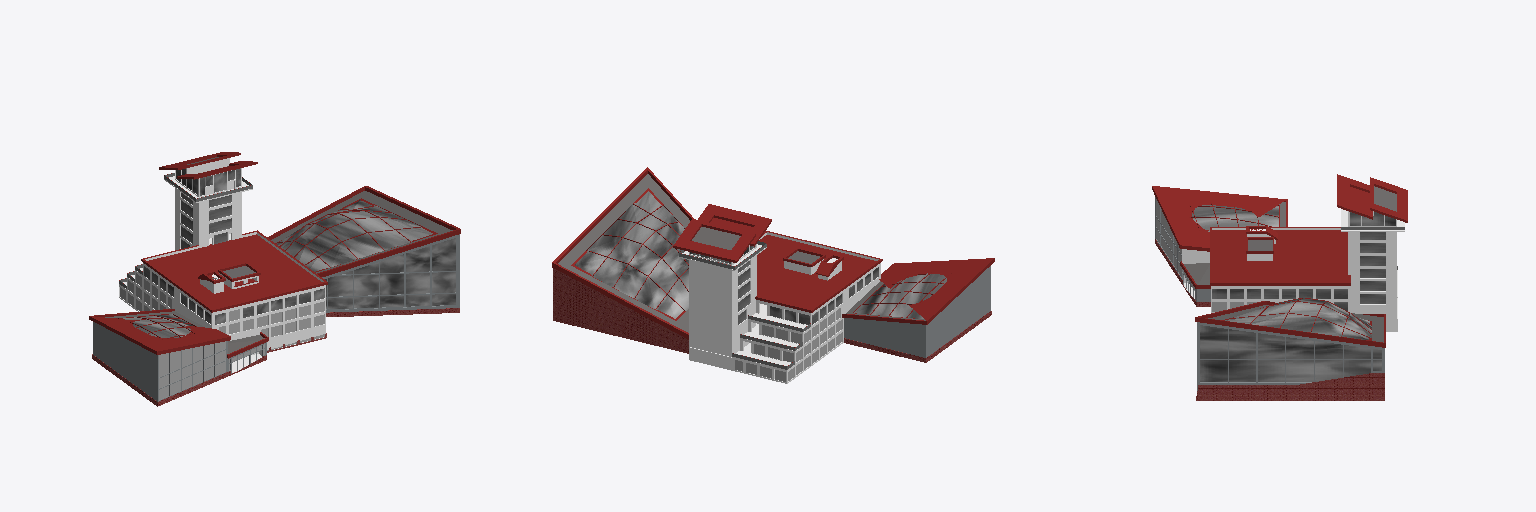
The picture shows the model from 3 angles: view 1: azimuth 30°, elevation 25°; view 2: azimuth 150°, elevation 25°; view 3: azimuth 270°, elevation 25°; orthographic projection.
Visible parts, largest first — view 1: Mesh12 Group6 Skill_Builder__X_ray__Back_Edges__and_Transparency, Mesh27 Group11 Skill_Builder__X_ray__Back_Edges__and_Transparenc, Mesh13 Group7 Skill_Builder__X_ray__Back_Edges__and_Transparency, Mesh5 Group2 Skill_Builder__X_ray__Back_Edges__and_Transparency1, Mesh1 Group1 Skill_Builder__X_ray__Back_Edges__and_Transparency1, Mesh16 Group9 Skill_Builder__X_ray__Back_Edges__and_Transparency, Mesh30 One_FLoor_1_1 Skill_Builder__X_ray__Back_Edges__and_Trans, Mesh29 One_FLoor_2_1 Skill_Builder__X_ray__Back_Edges__and_Trans, Mesh14 Group8 Skill_Builder__X_ray__Back_Edges__and_Transparency, Mesh31 One_FLoor1 Skill_Builder__X_ray__Back_Edges__and_Transpar, Mesh630 One_FLoor_3_1 Skill_Builder__X_ray__Back_Edges__and_Tran, Mesh15 Group10 Group9 Skill_Builder__X_ray__Back_Edges__and_Tran (+3 smaller); view 2: Mesh13 Group7 Skill_Builder__X_ray__Back_Edges__and_Transparency, Mesh12 Group6 Skill_Builder__X_ray__Back_Edges__and_Transparency, Mesh1 Group1 Skill_Builder__X_ray__Back_Edges__and_Transparency1, Mesh5 Group2 Skill_Builder__X_ray__Back_Edges__and_Transparency1, Mesh14 Group8 Skill_Builder__X_ray__Back_Edges__and_Transparency, Mesh16 Group9 Skill_Builder__X_ray__Back_Edges__and_Transparency, Mesh30 One_FLoor_1_1 Skill_Builder__X_ray__Back_Edges__and_Trans, Mesh31 One_FLoor1 Skill_Builder__X_ray__Back_Edges__and_Transpar, Mesh29 One_FLoor_2_1 Skill_Builder__X_ray__Back_Edges__and_Trans, Mesh630 One_FLoor_3_1 Skill_Builder__X_ray__Back_Edges__and_Tran, Mesh15 Group10 Group9 Skill_Builder__X_ray__Back_Edges__and_Tran, Mesh2191 Skill_Builder__X_ray__Back_Edges__and_Transparency1 Mod (+2 smaller); view 3: Mesh12 Group6 Skill_Builder__X_ray__Back_Edges__and_Transparency, Mesh28 Group12 Skill_Builder__X_ray__Back_Edges__and_Transparenc, Mesh13 Group7 Skill_Builder__X_ray__Back_Edges__and_Transparency, Mesh1 Group1 Skill_Builder__X_ray__Back_Edges__and_Transparency1, Mesh14 Group8 Skill_Builder__X_ray__Back_Edges__and_Transparency, Mesh16 Group9 Skill_Builder__X_ray__Back_Edges__and_Transparency, Mesh30 One_FLoor_1_1 Skill_Builder__X_ray__Back_Edges__and_Trans, Mesh5 Group2 Skill_Builder__X_ray__Back_Edges__and_Transparency1, Mesh2190 Skill_Builder__X_ray__Back_Edges__and_Transparency1 Mod.
Boxes of the visible parts, box(x1,y1,x2,y2) form: Mesh12 Group6 Skill_Builder__X_ray__Back_Edges__and_Transparency: box(141, 230, 327, 313); Mesh27 Group11 Skill_Builder__X_ray__Back_Edges__and_Transparenc: box(325, 237, 456, 309); Mesh13 Group7 Skill_Builder__X_ray__Back_Edges__and_Transparency: box(159, 152, 257, 249); Mesh5 Group2 Skill_Builder__X_ray__Back_Edges__and_Transparency1: box(92, 300, 227, 406); Mesh1 Group1 Skill_Builder__X_ray__Back_Edges__and_Transparency1: box(89, 309, 230, 354); Mesh16 Group9 Skill_Builder__X_ray__Back_Edges__and_Transparency: box(267, 186, 460, 276); Mesh30 One_FLoor_1_1 Skill_Builder__X_ray__Back_Edges__and_Trans: box(135, 264, 325, 326); Mesh29 One_FLoor_2_1 Skill_Builder__X_ray__Back_Edges__and_Trans: box(127, 271, 325, 335); Mesh14 Group8 Skill_Builder__X_ray__Back_Edges__and_Transparency: box(322, 234, 459, 316); Mesh31 One_FLoor1 Skill_Builder__X_ray__Back_Edges__and_Transpar: box(119, 278, 325, 340); Mesh630 One_FLoor_3_1 Skill_Builder__X_ray__Back_Edges__and_Tran: box(119, 285, 326, 354); Mesh15 Group10 Group9 Skill_Builder__X_ray__Back_Edges__and_Tran: box(275, 198, 437, 272); Mesh13 Group7 Skill_Builder__X_ray__Back_Edges__and_Transparency: box(673, 204, 771, 370); Mesh12 Group6 Skill_Builder__X_ray__Back_Edges__and_Transparency: box(755, 231, 882, 314); Mesh1 Group1 Skill_Builder__X_ray__Back_Edges__and_Transparency1: box(842, 258, 994, 324); Mesh5 Group2 Skill_Builder__X_ray__Back_Edges__and_Transparency1: box(844, 266, 991, 362); Mesh14 Group8 Skill_Builder__X_ray__Back_Edges__and_Transparency: box(553, 268, 688, 353); Mesh16 Group9 Skill_Builder__X_ray__Back_Edges__and_Transparency: box(552, 167, 693, 339); Mesh30 One_FLoor_1_1 Skill_Builder__X_ray__Back_Edges__and_Trans: box(748, 264, 880, 332); Mesh31 One_FLoor1 Skill_Builder__X_ray__Back_Edges__and_Transpar: box(732, 318, 843, 370); Mesh29 One_FLoor_2_1 Skill_Builder__X_ray__Back_Edges__and_Trans: box(740, 304, 843, 351); Mesh630 One_FLoor_3_1 Skill_Builder__X_ray__Back_Edges__and_Tran: box(732, 330, 843, 383); Mesh15 Group10 Group9 Skill_Builder__X_ray__Back_Edges__and_Tran: box(571, 188, 688, 320); Mesh2191 Skill_Builder__X_ray__Back_Edges__and_Transparency1 Mod: box(614, 265, 647, 297); Mesh12 Group6 Skill_Builder__X_ray__Back_Edges__and_Transparency: box(1210, 226, 1350, 287); Mesh28 Group12 Skill_Builder__X_ray__Back_Edges__and_Transparenc: box(1199, 325, 1381, 382); Mesh13 Group7 Skill_Builder__X_ray__Back_Edges__and_Transparency: box(1337, 174, 1407, 331); Mesh1 Group1 Skill_Builder__X_ray__Back_Edges__and_Transparency1: box(1152, 186, 1287, 251); Mesh14 Group8 Skill_Builder__X_ray__Back_Edges__and_Transparency: box(1196, 322, 1384, 400); Mesh16 Group9 Skill_Builder__X_ray__Back_Edges__and_Transparency: box(1195, 301, 1385, 347); Mesh30 One_FLoor_1_1 Skill_Builder__X_ray__Back_Edges__and_Trans: box(1211, 288, 1349, 300); Mesh5 Group2 Skill_Builder__X_ray__Back_Edges__and_Transparency1: box(1155, 197, 1209, 283); Mesh2190 Skill_Builder__X_ray__Back_Edges__and_Transparency1 Mod: box(1180, 261, 1210, 288).
Size of the model in its own units: 88.44 by 34.15 by 60.2.
8 materials, 2 textured.